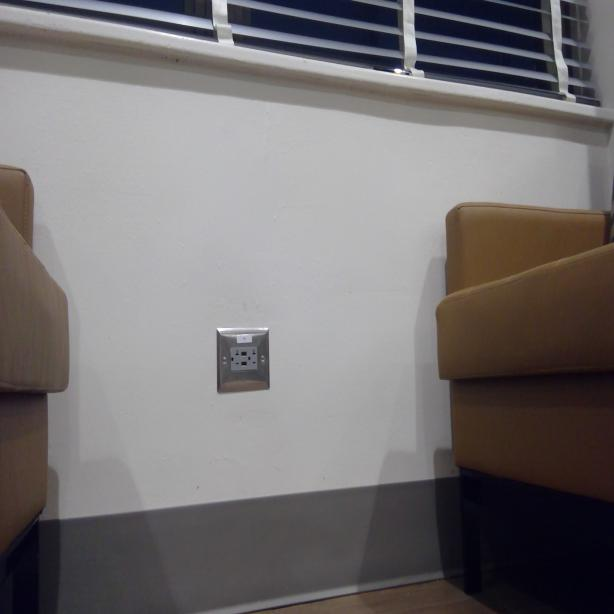typeb: (230, 347, 242, 370), (248, 349, 258, 369)
